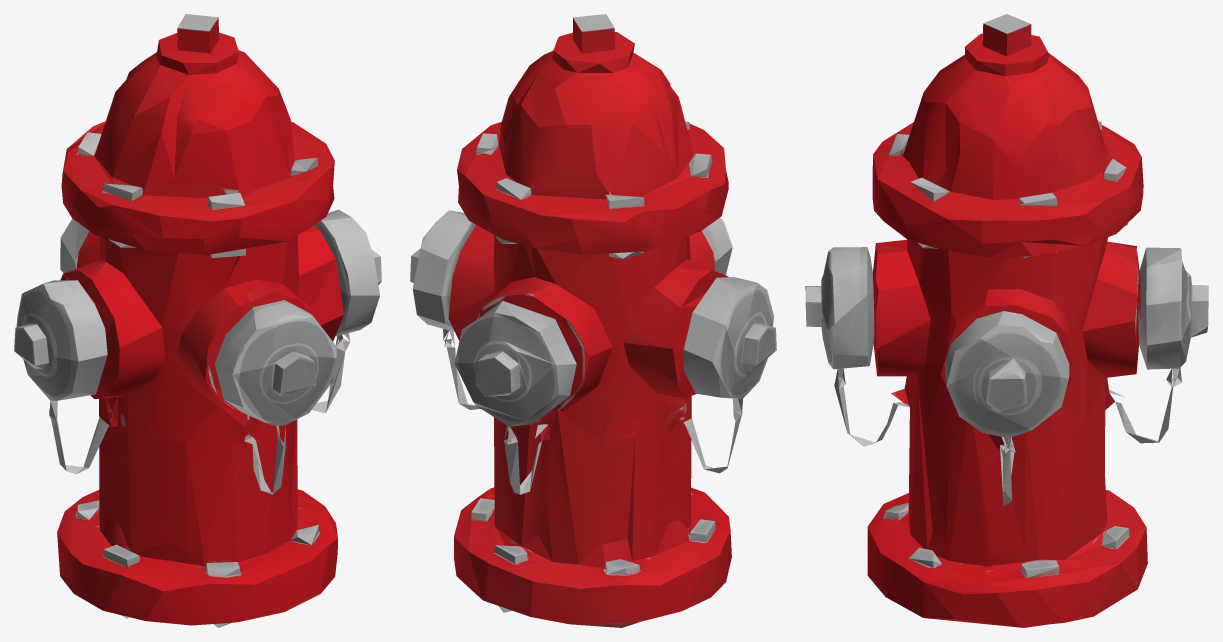
The model's file is fire_hydrant.glb.
The picture shows the model from 3 angles, left to right: view 1: azimuth 30°, elevation 25°; view 2: azimuth 150°, elevation 25°; view 3: azimuth 270°, elevation 25°; orthographic projection.
Bounding box in the file's own units: 0.5259 × 0.8 × 0.526.
1 material, 1 textured.
